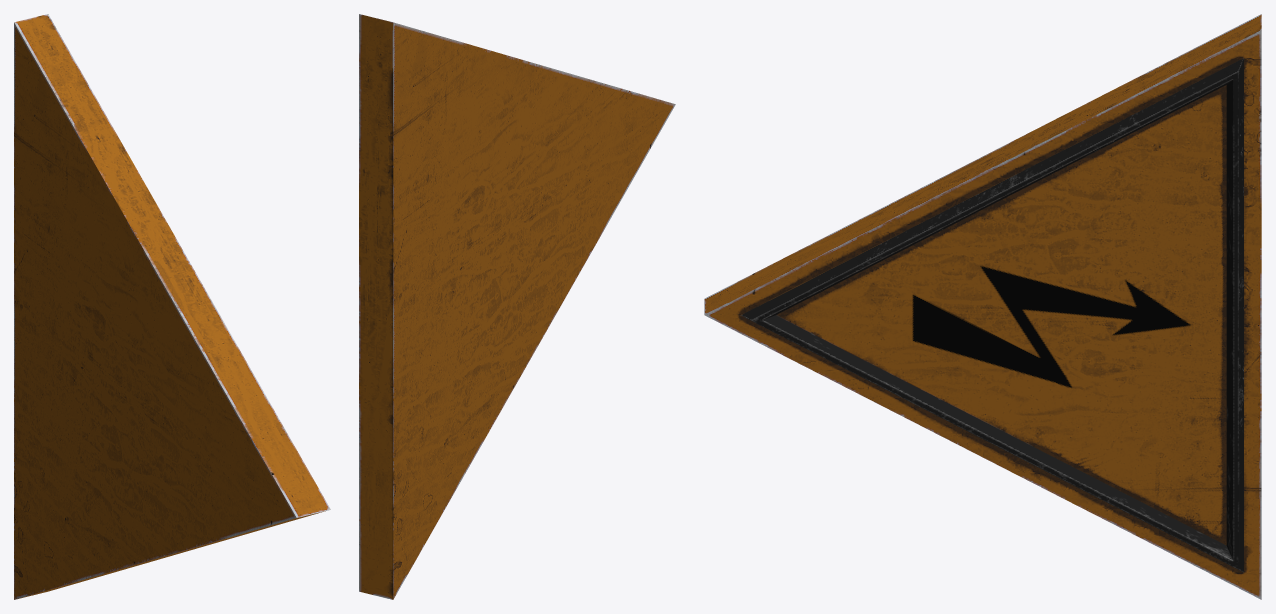
Rendered from Electricity.gltf.
3 renders of one model, left to right at view 1: azimuth 30°, elevation 25°; view 2: azimuth 150°, elevation 25°; view 3: azimuth 270°, elevation 25°, orthographic.
Parts seen in each view (by area): view 1: Cube.014; view 2: Cube.014; view 3: Cube.014.
Boxes of the visible parts, <box> form: Cube.014: <box>14,14,330,599</box>; Cube.014: <box>359,14,675,599</box>; Cube.014: <box>704,14,1261,599</box>.
Size of the model in its own units: 0.1835 by 2.26 by 2.
Materials: 1 (1 with a texture image).
